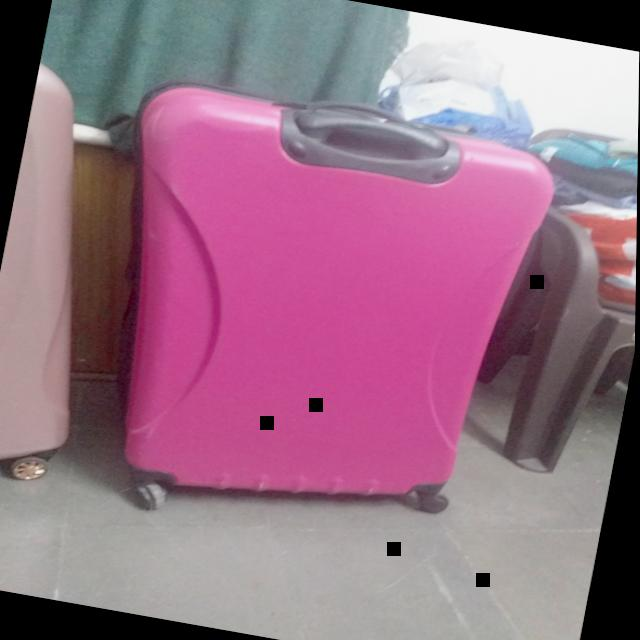luggage: (57, 64, 573, 558)
